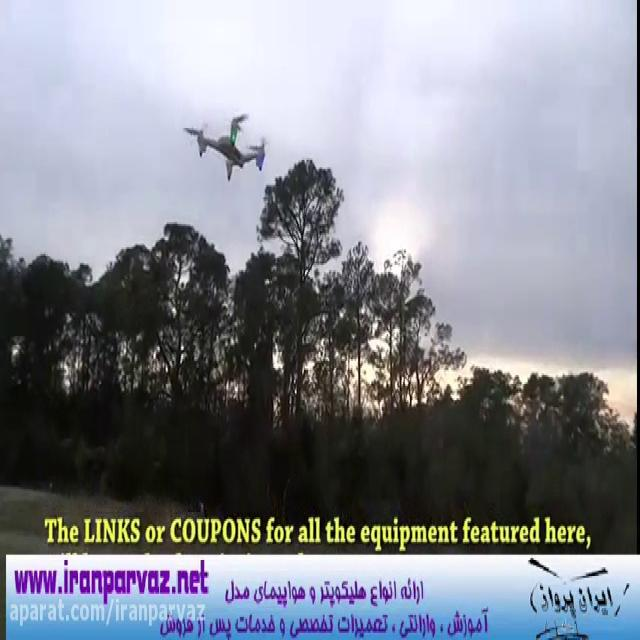drone: (179, 105, 270, 187)
